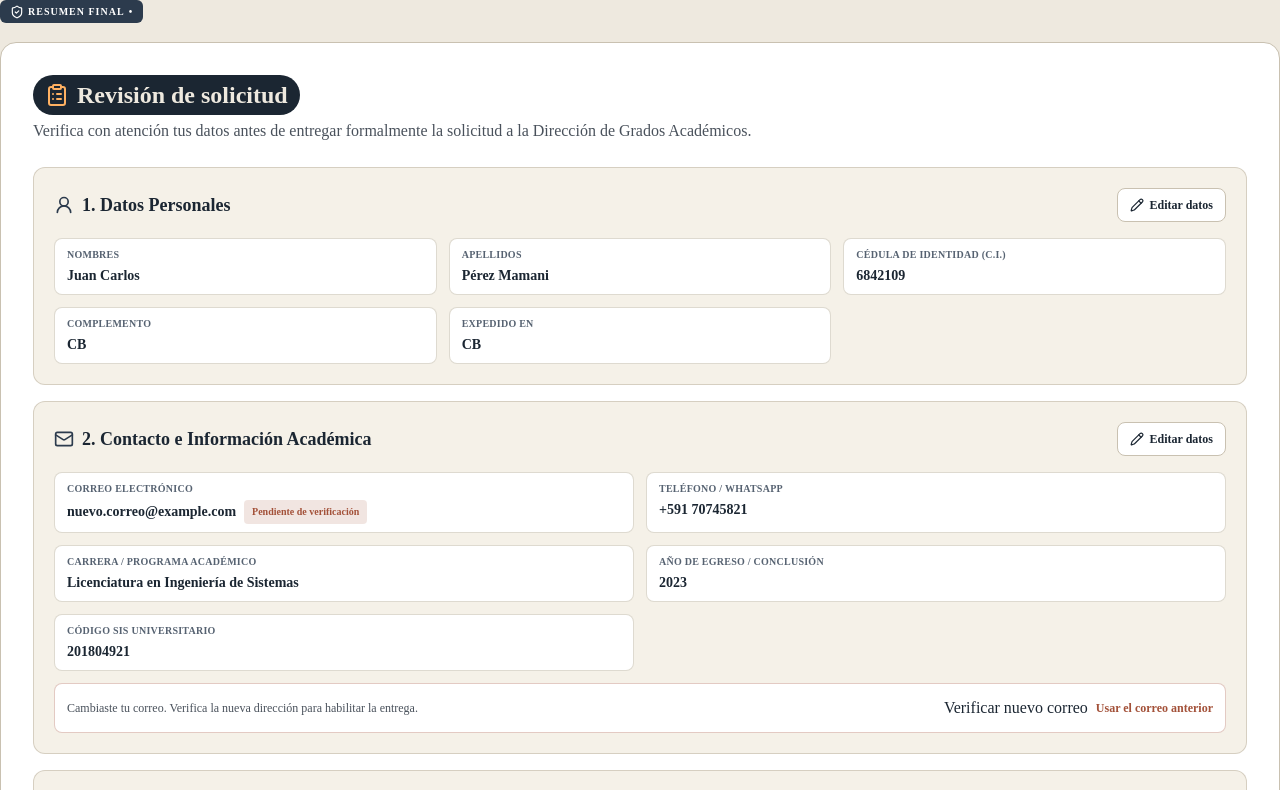
RegistrationReview › permite conservar el correo anteriormente verificado (CA-07.4)
The width and height of the screenshot is (1280, 790).
Check: the heading "Revisión de solicitud" is shown, box top-left (33, 74), bottom-right (300, 114)
Check: the text "Pendiente de verificación" is shown, box top-left (244, 500), bottom-right (367, 524)
Click the button "Usar el correo anterior" at (1154, 708), box top-left (1096, 700), bottom-right (1213, 716)
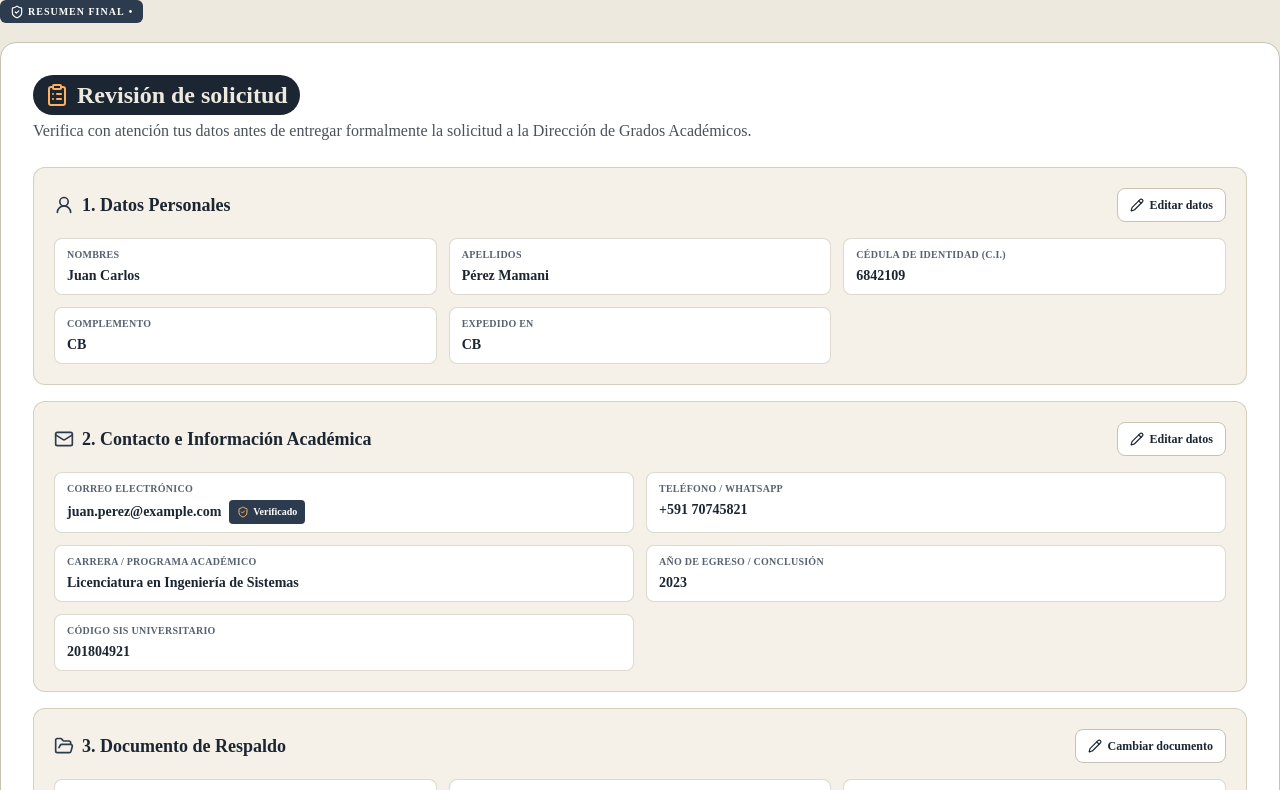
Check: the text "Verificado" is shown, box top-left (229, 500), bottom-right (305, 524)
